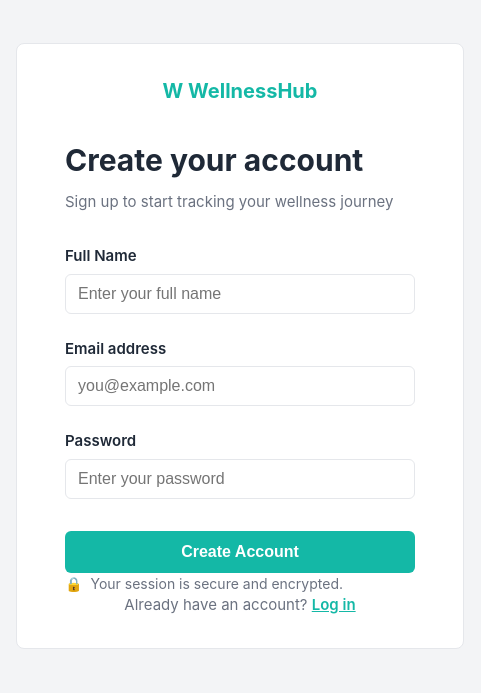
Scenario: submitting with only Full Name filled shows email and password errors
Type "Alice" into the field labelled "Full Name" at (240, 294), box [65,274,415,314]
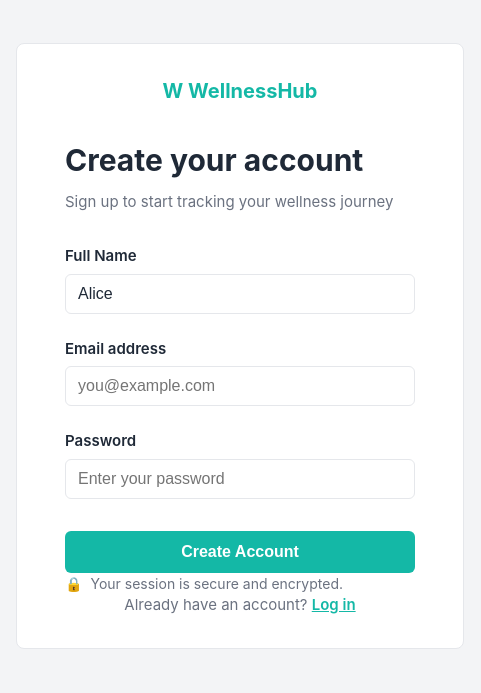
Submit the form "Create Account", box [65,245,415,573]
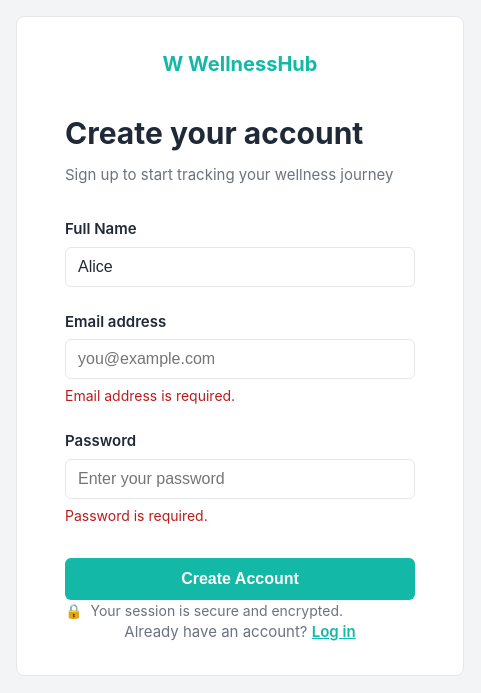
Expected: the text "Email address is required." is shown, [65,387,235,404]
Expected: the text "Password is required." is shown, [65,507,208,524]
